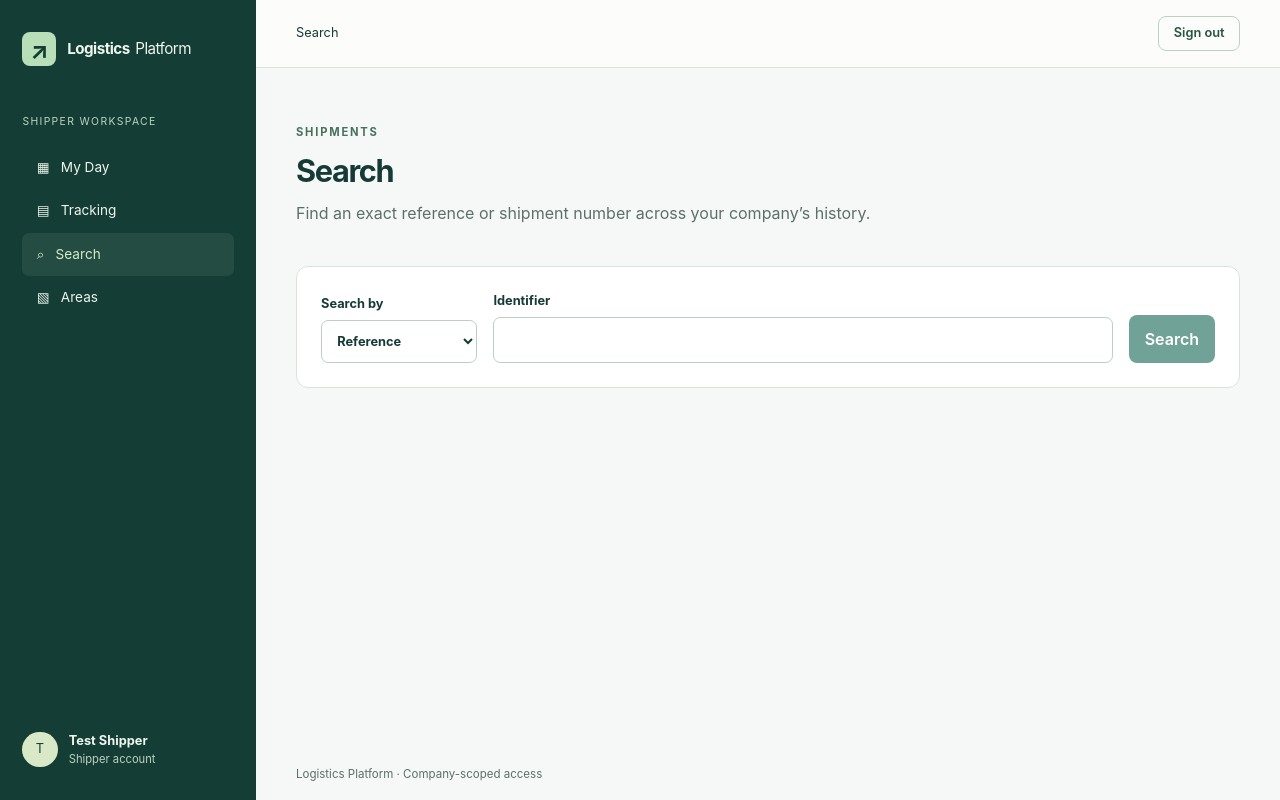
renders exact no-match text safely and singleton lookup redirects with escaped identifiers
The image size is (1280, 800).
Type "<img src=x onerror=alert(1)>" into the field labelled "Identifier" at [803, 340], box x1=493 y1=317 x2=1113 y2=363
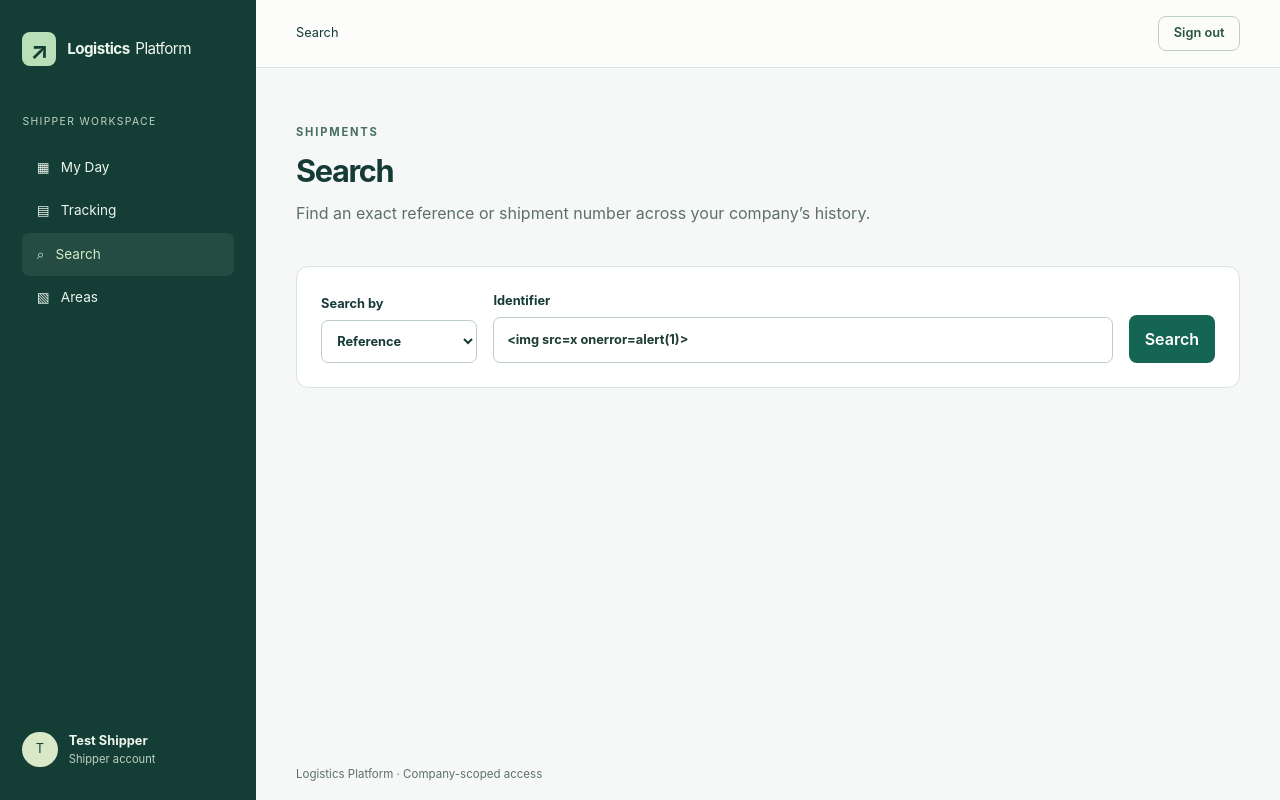
Click the button "Search" at [1172, 339], box x1=1129 y1=315 x2=1215 y2=363
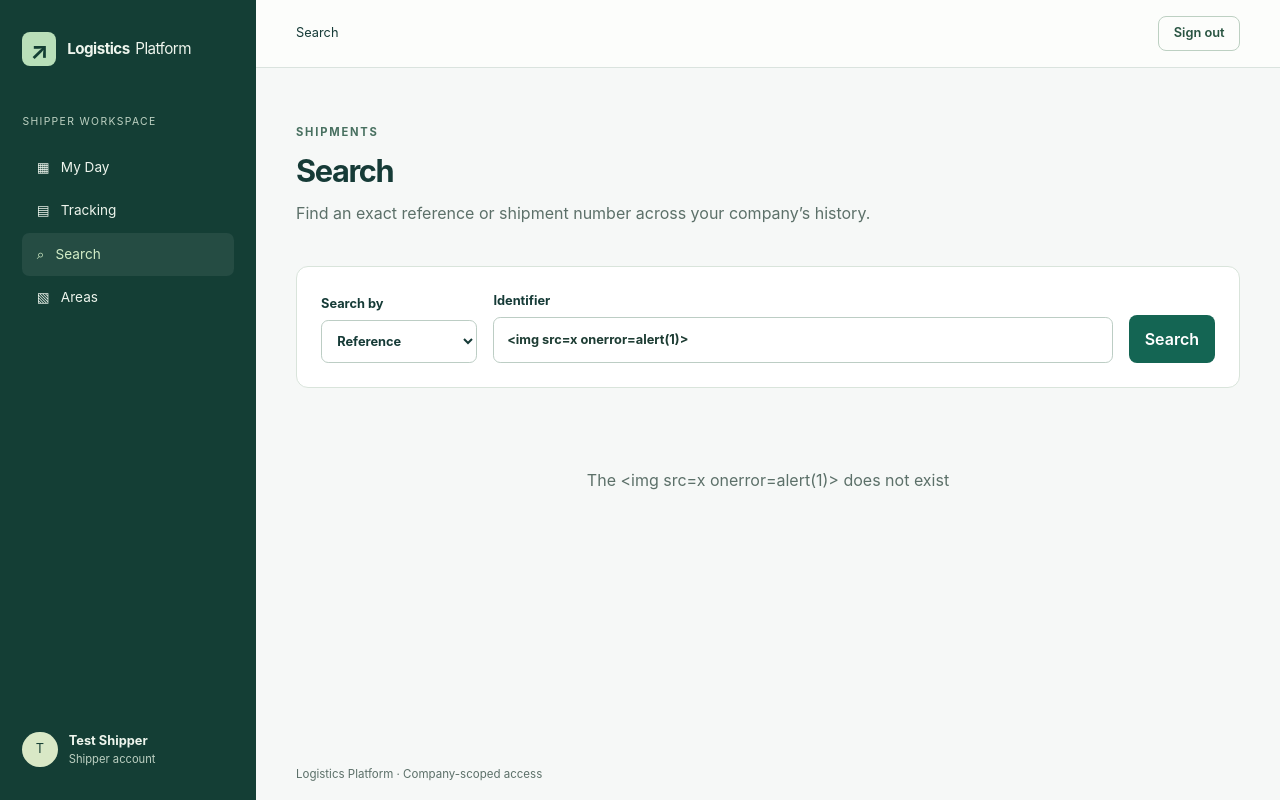
Replace the text in the field labelled "Identifier" with "000/A?#" at [803, 340], box x1=493 y1=317 x2=1113 y2=363
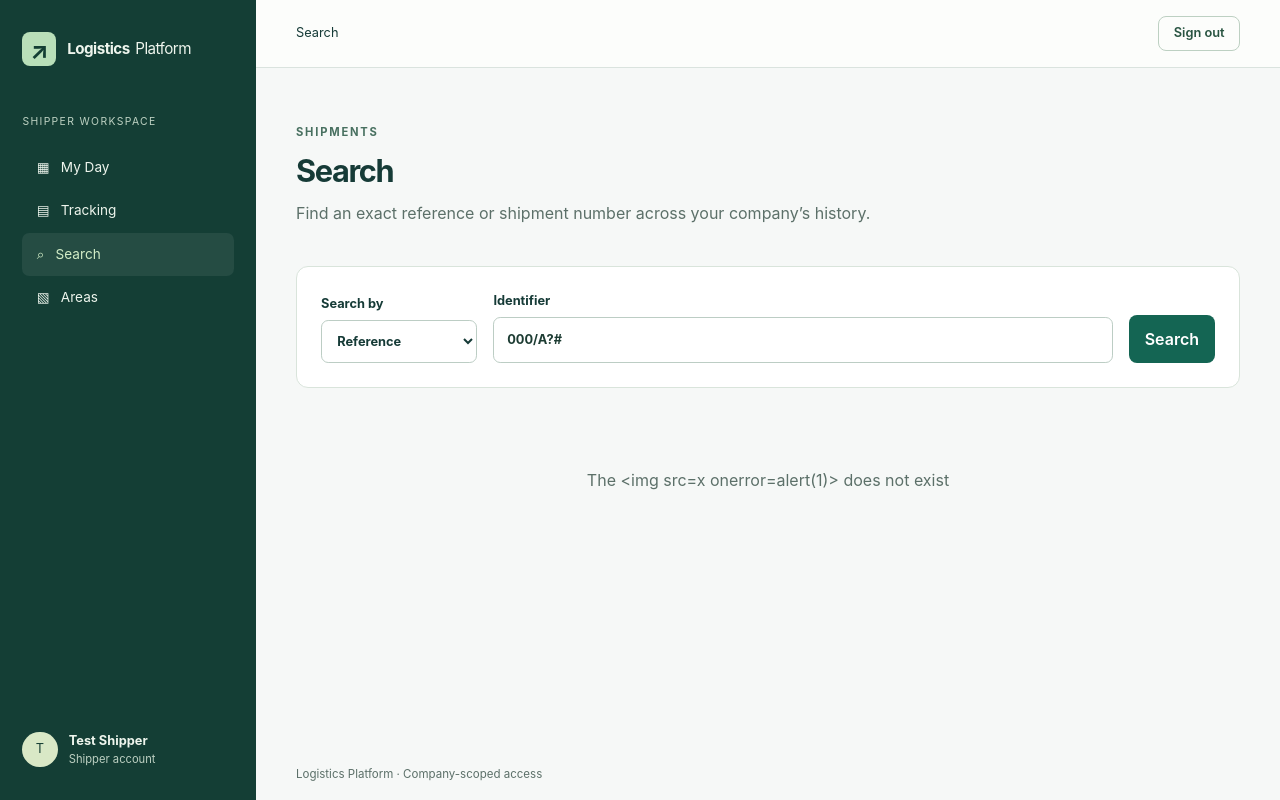
Click the button "Search" at [1172, 339], box x1=1129 y1=315 x2=1215 y2=363
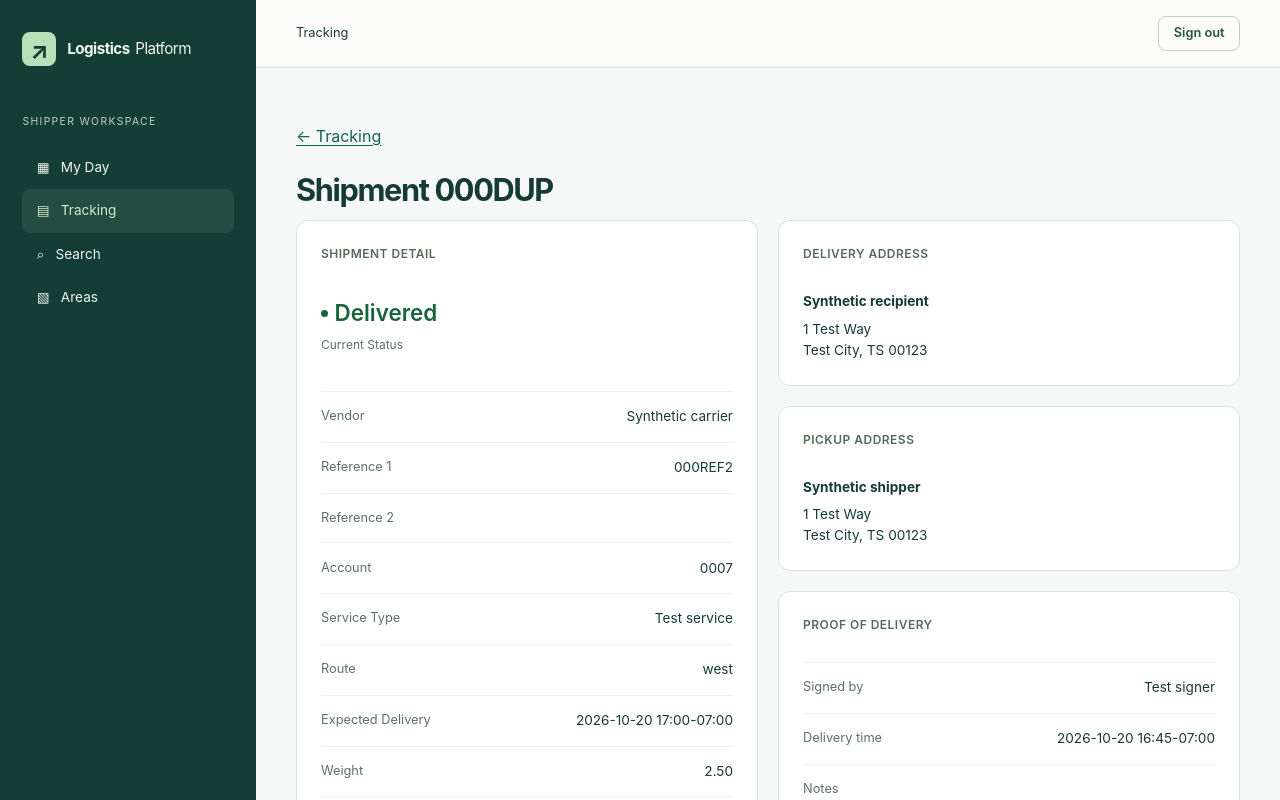
Expected: the heading "Shipment 000DUP" is shown, x1=296 y1=171 x2=553 y2=208
